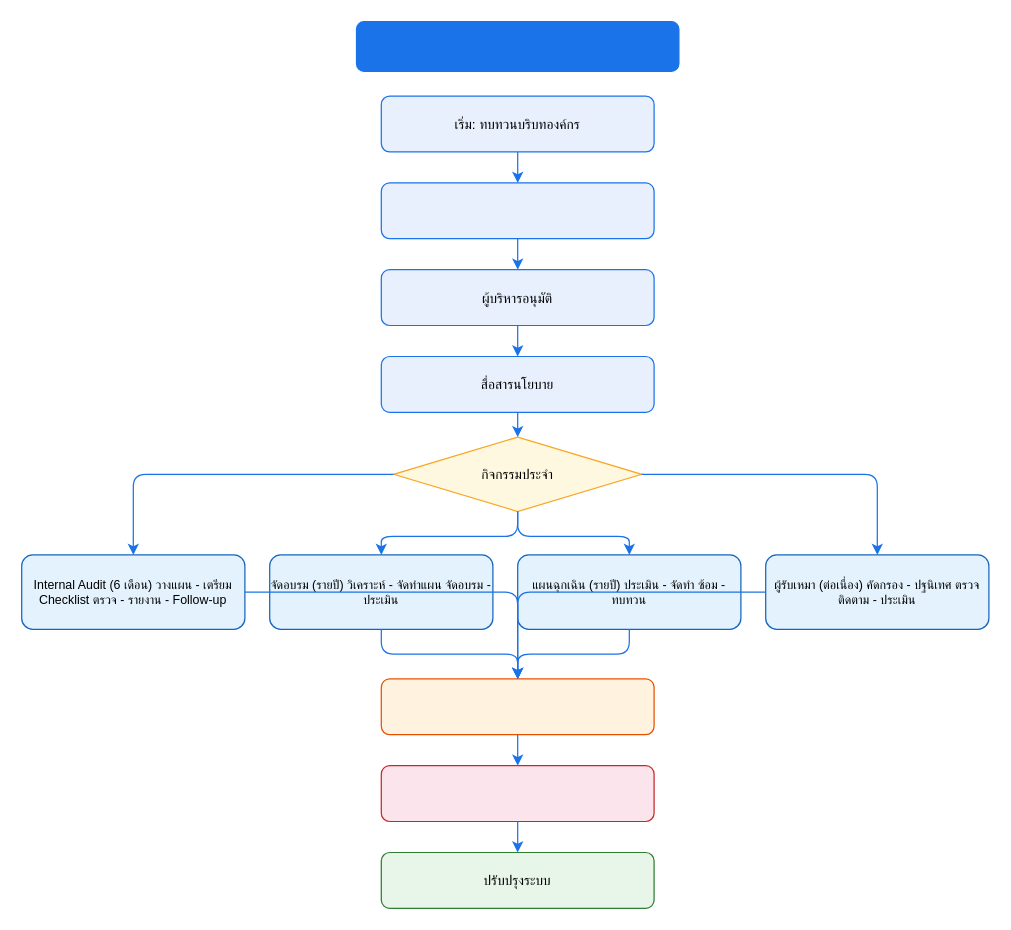
This 1011x930 diagram has some shape labels left out. Each missing label, with the box of its shape:
Management Review: (380, 764, 654, 822)
PM-WI-004: จป.วิชาชีพ: (355, 20, 679, 71)
จัดทำนโยบายความปลอดภัย: (380, 182, 654, 239)
รายงานผู้บริหาร: (380, 678, 654, 735)
